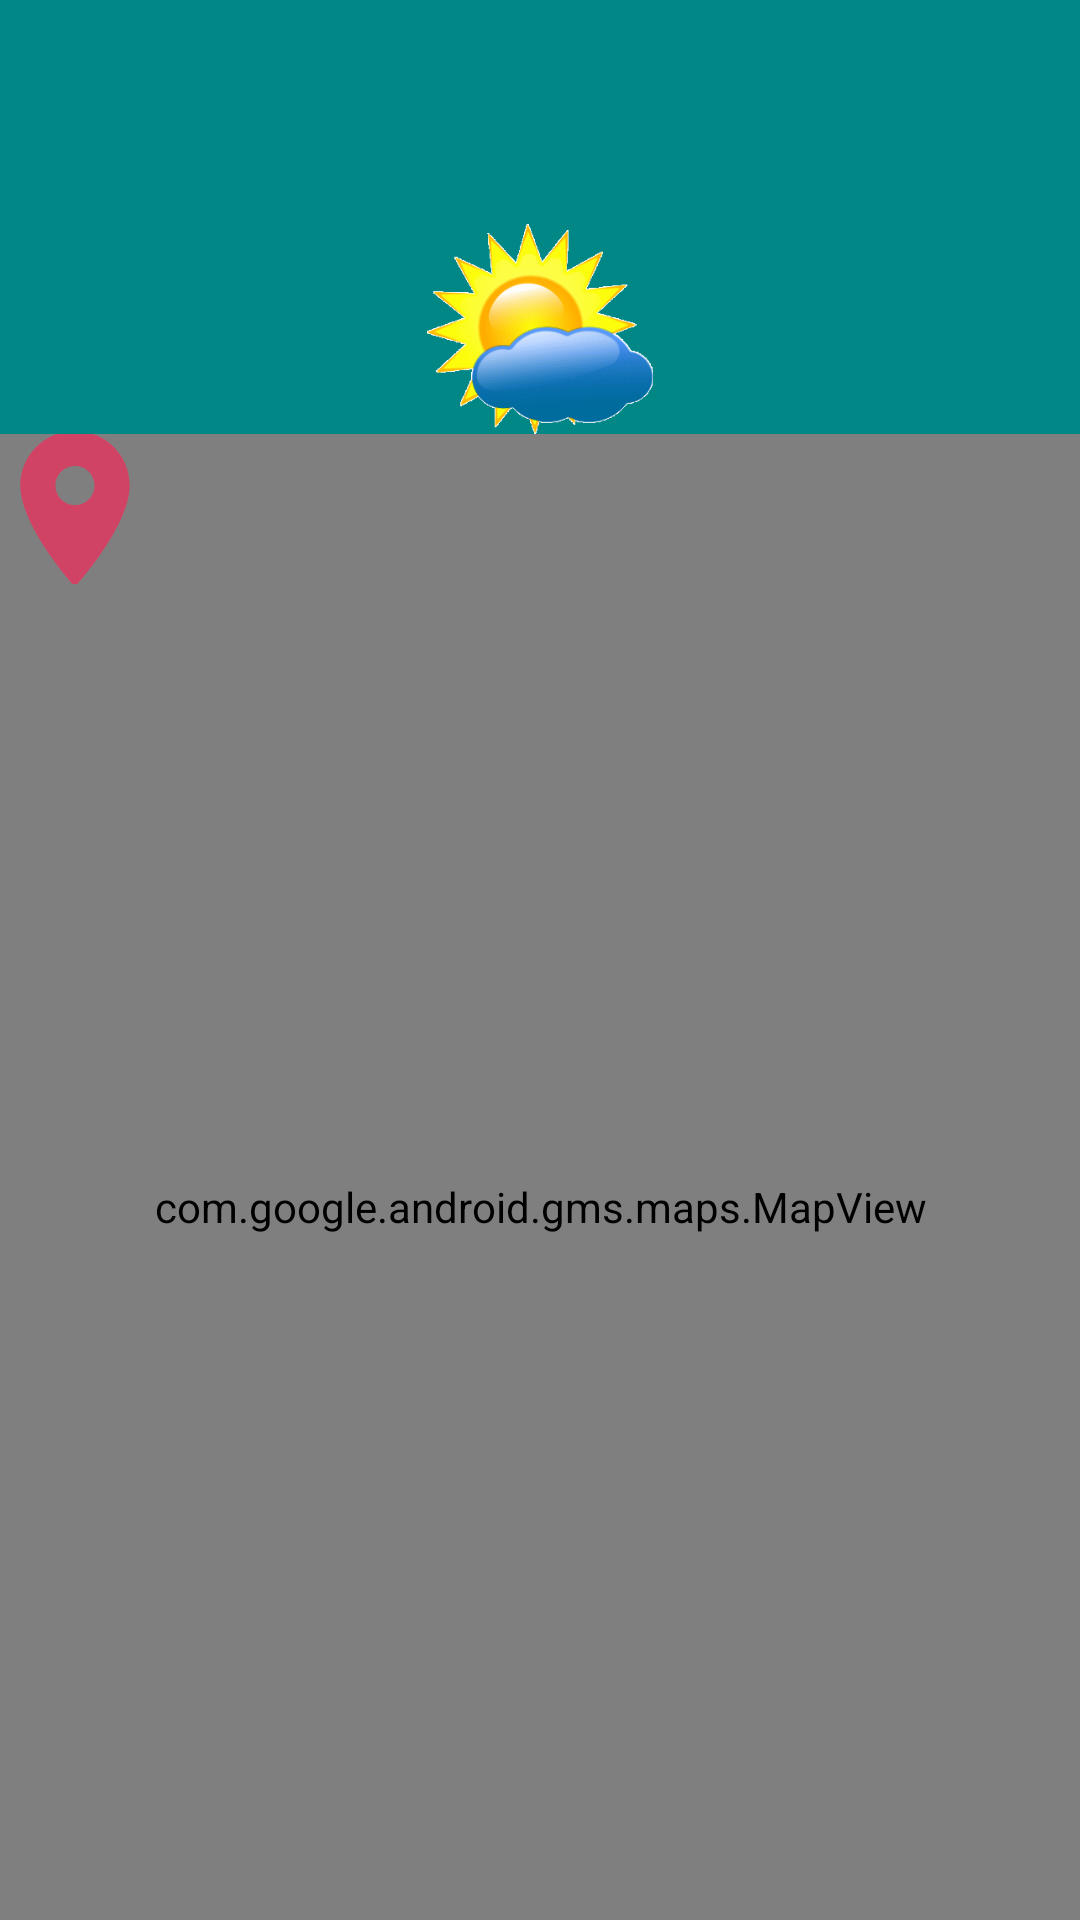

Icon click points for this 1080×1920 phone screenshot, format point (x, y):
location: point (75, 509)
